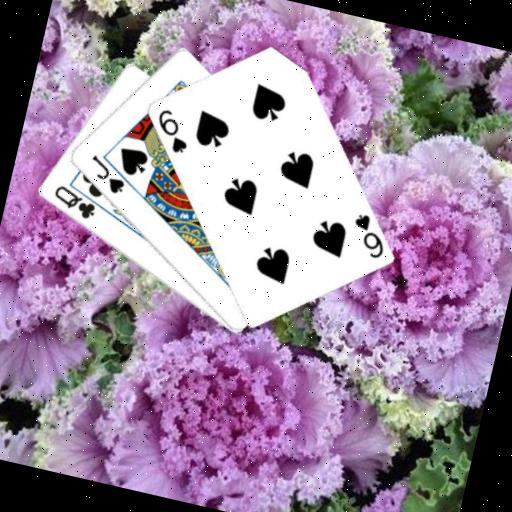6S: (344, 209, 393, 262), (148, 104, 196, 157)
JS: (81, 151, 131, 198)
QC: (47, 181, 101, 223)
